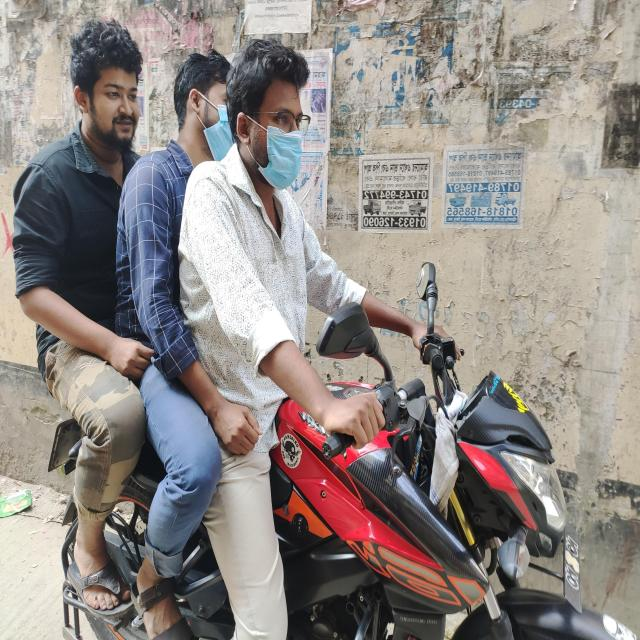triple_rider: (10, 14, 640, 640)
